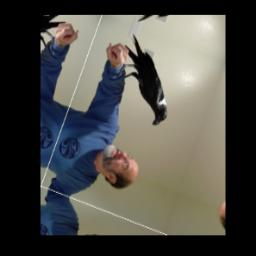Crow: (103, 31, 192, 130)
